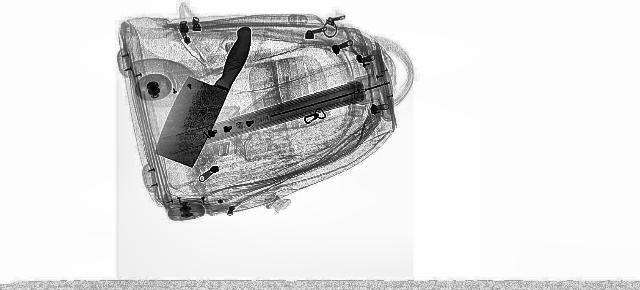Knife: (142, 23, 262, 167)
